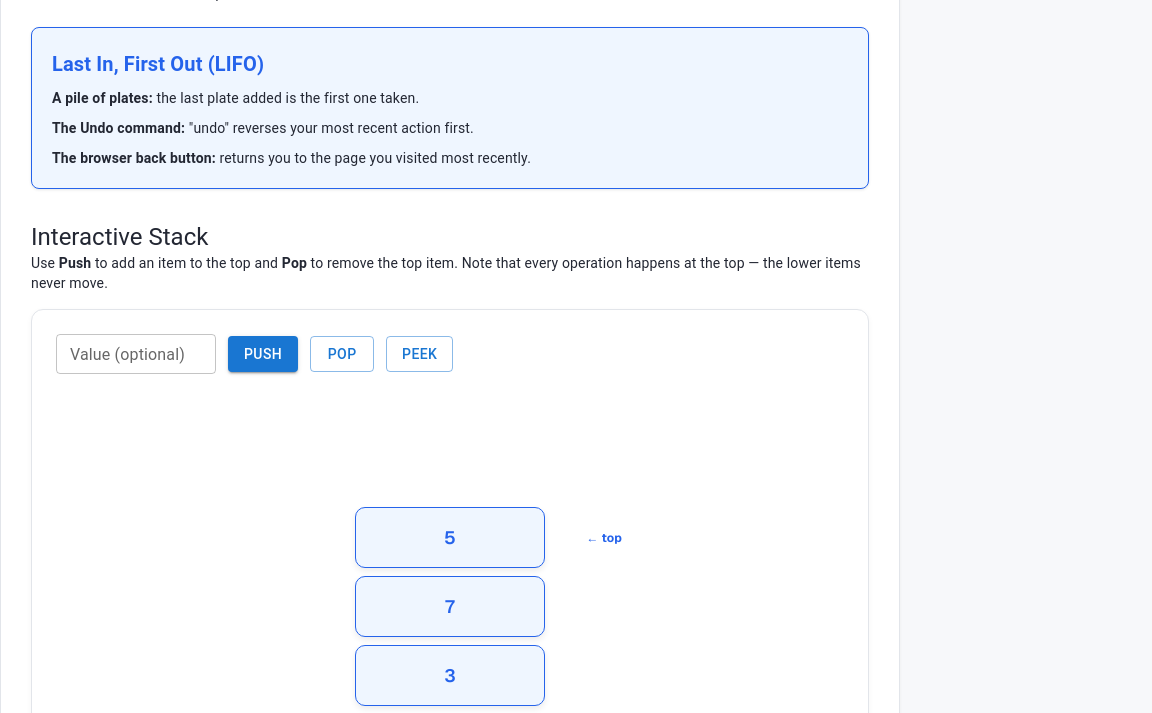
Test case: StackConcept › peek leaves the stack unchanged
(page scrolled)
Click the button "Peek": (420, 354) top-left (386, 336), bottom-right (453, 372)
(page scrolled)
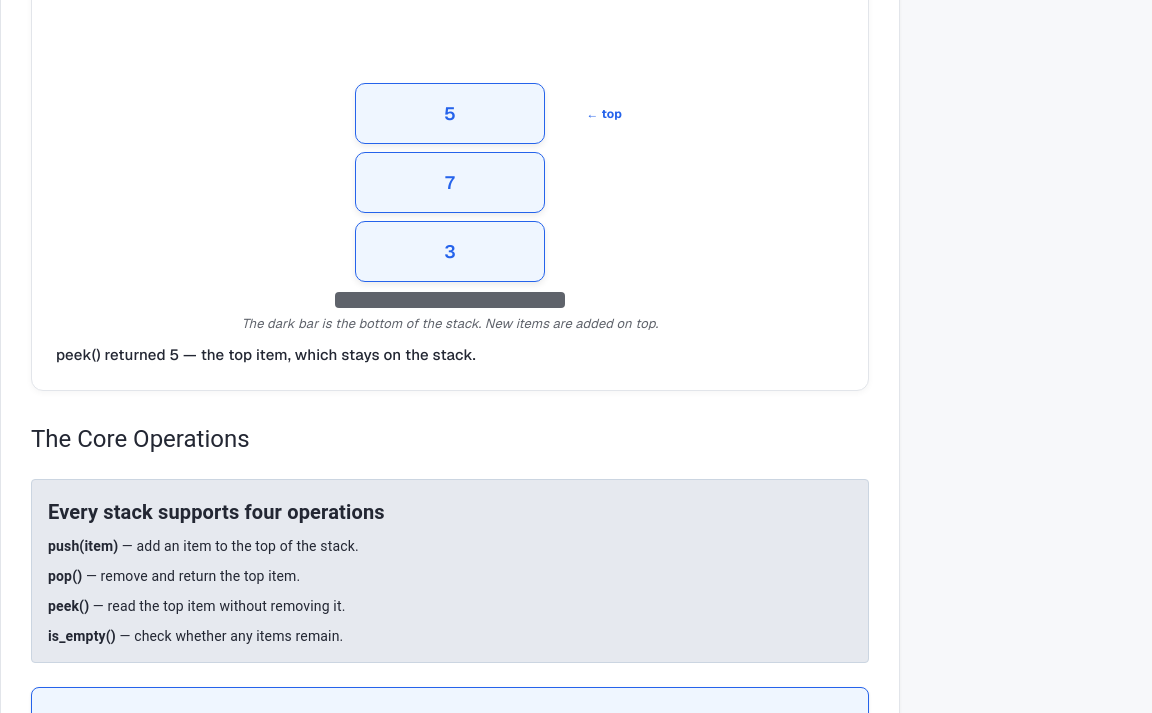
Expected: the number of elements with class "stack-item" is 3, top-left (355, 83), bottom-right (545, 144); top-left (355, 152), bottom-right (545, 213); top-left (355, 221), bottom-right (545, 282)
Expected: the text "peek() returned 5 — the top item, which stays on the stack." is shown, top-left (56, 344), bottom-right (476, 364)
